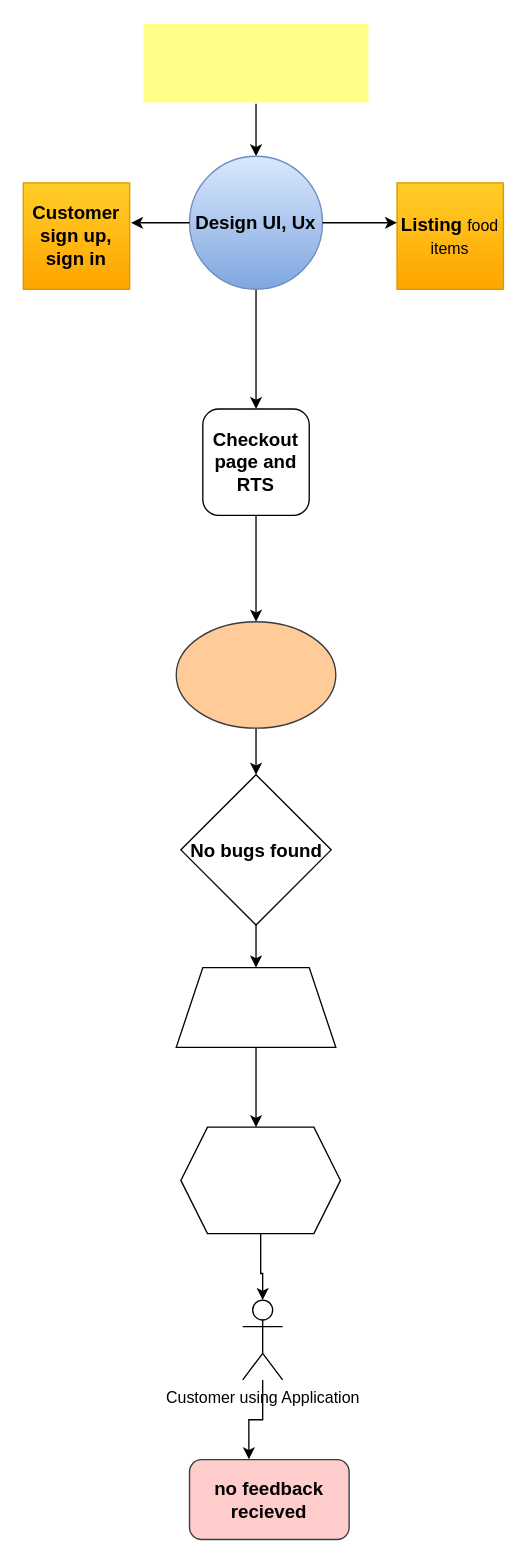
The diagram is 527 pixels wide and 1564 high, and some of its shapes have lost their labels. Each missing label, with the centre of its shape:
Comping into APK: the point at 255,674
DSP FOODS: the point at 255,62
Pushing apk to cloud or app store: the point at 260,1180
Writing permision for deployement: the point at 255,1006
